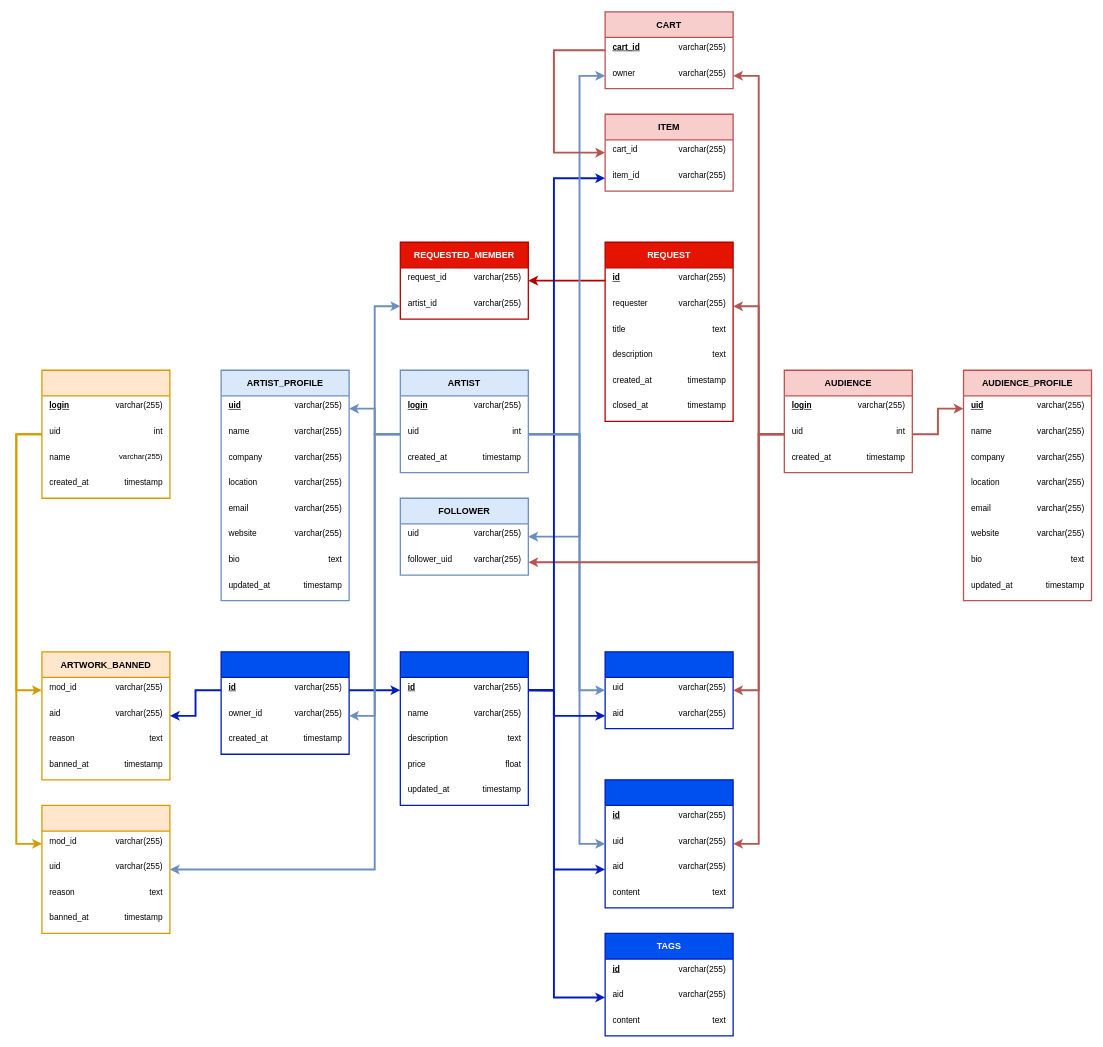
Image size: 1103x1047. Some labels were removed from this diagram. The box of each missing label's shape, as (x1, y1, x2, y2) in pixels:
ARTWORK: (220, 651, 349, 755)
ARTWORK_PROPERTY: (399, 651, 529, 806)
COMMENTS: (604, 779, 733, 908)
LIKES: (604, 651, 733, 729)
MODERATOR: (41, 369, 170, 499)
USER_BANNED: (41, 804, 170, 934)
